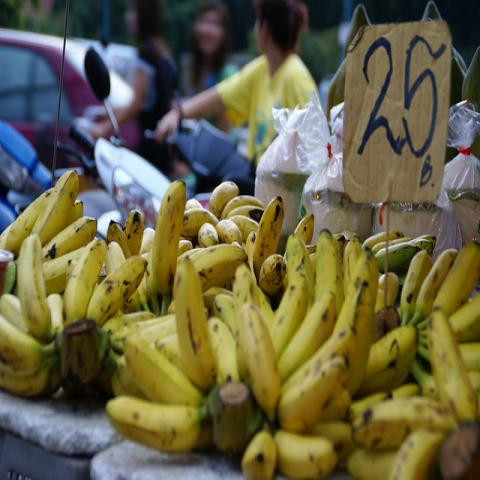car: (0, 28, 141, 172)
motorcycle: (0, 48, 178, 239), (145, 118, 255, 196)
